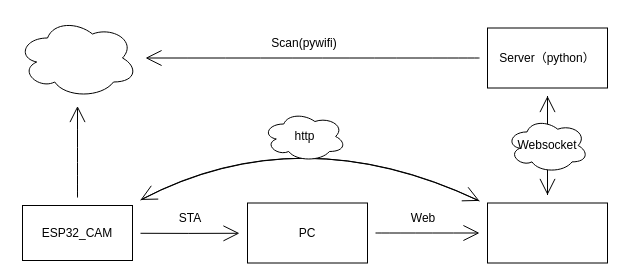
This 625x280 diagram has some shape labels left out. The box of each missing label's shape, as (x1, y1, x2, y2) in pixels:
AP:SSID=IP: (16, 17, 138, 98)
Client: (486, 202, 608, 263)
